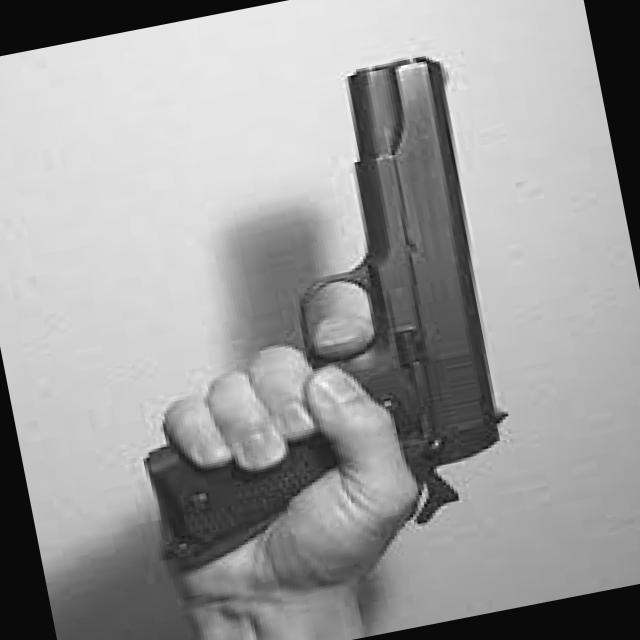handgun: (76, 41, 552, 583)
